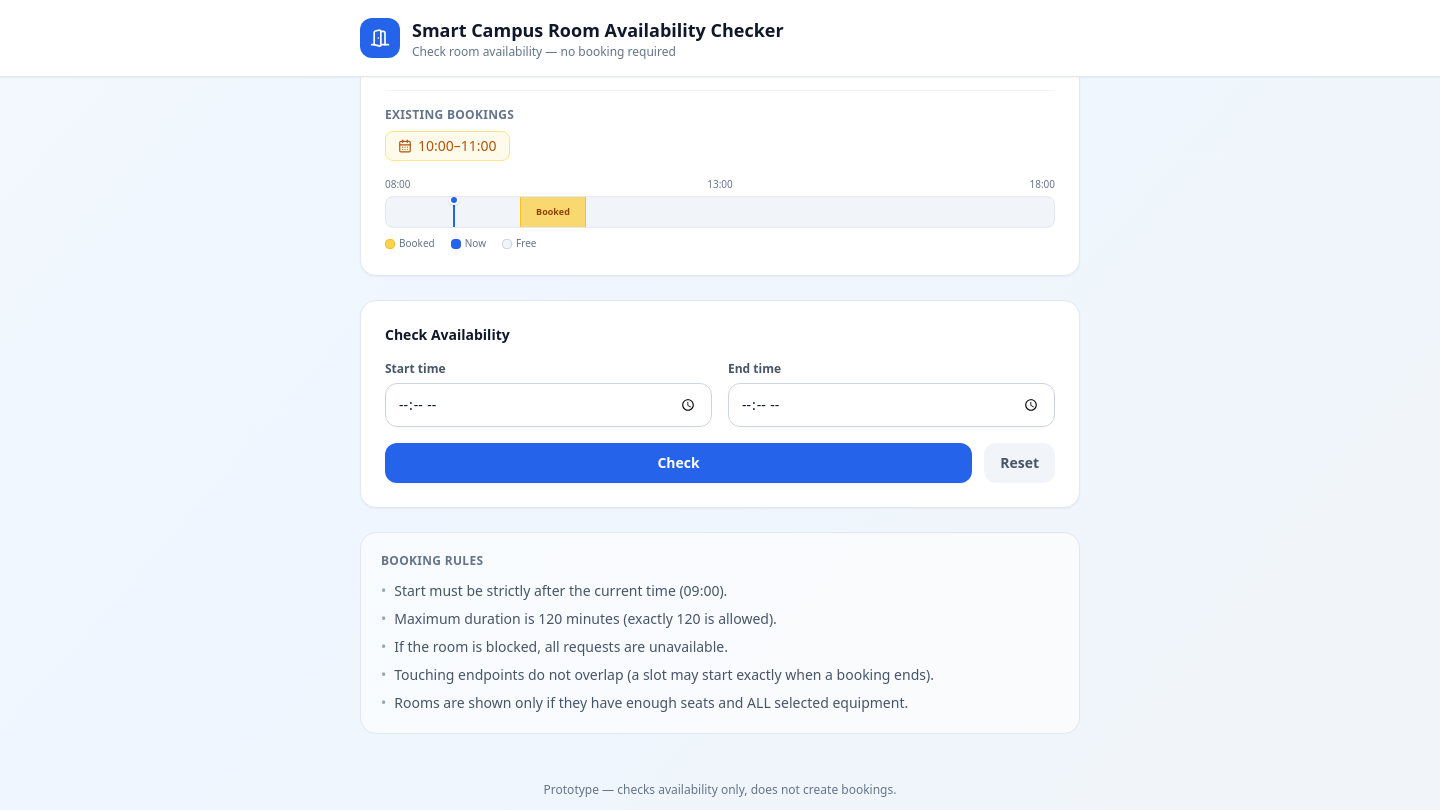
Test: Mitigation 1 — current time is 09:00 (literal, no NOW_MIN import) › Room 204, 09:01–09:30 is Available (one minute after now)
(page scrolled)
In the time field labelled "Start time": (548, 405) [385,383,712,427], type "09:01"
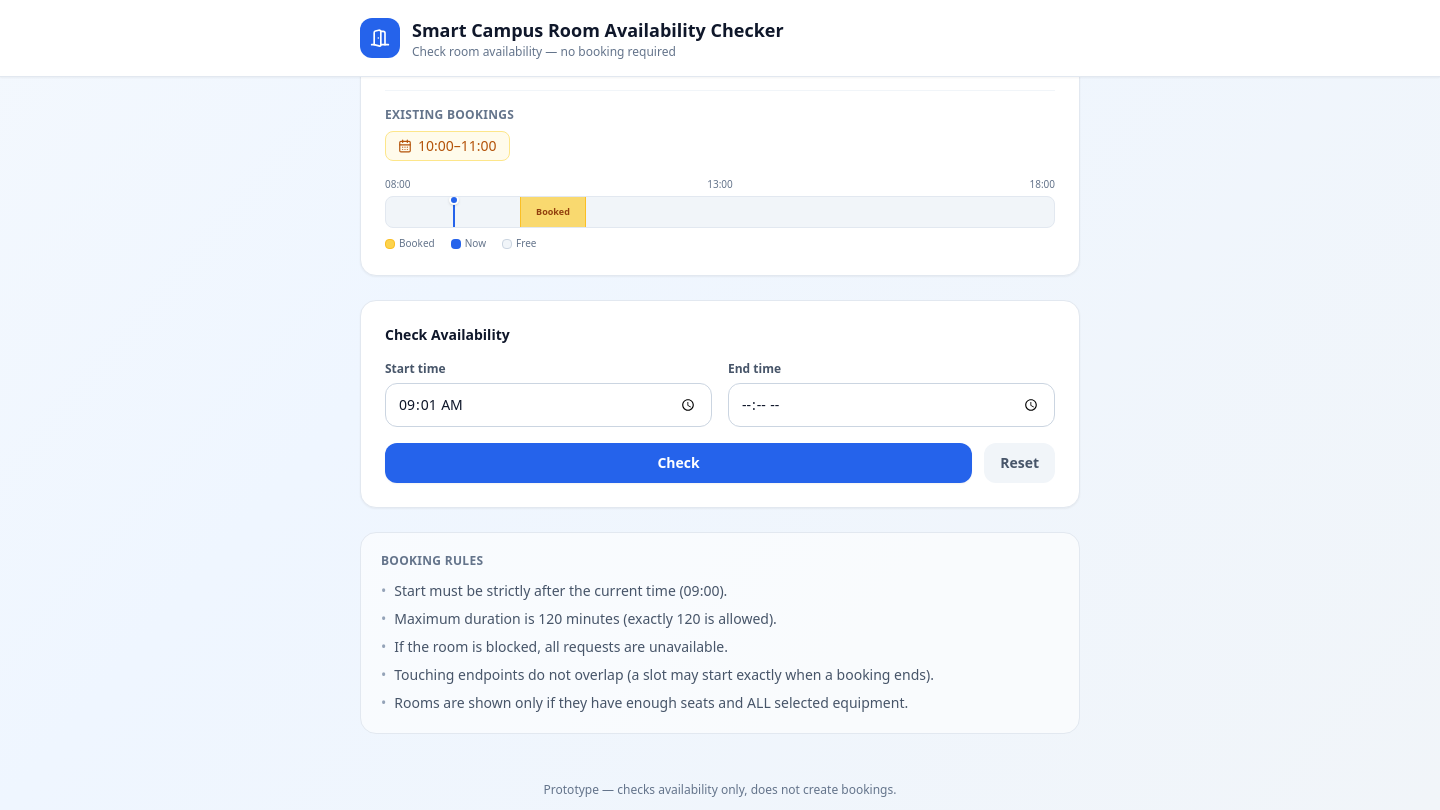
In the time field labelled "End time": (892, 405) [728,383,1055,427], type "09:30"
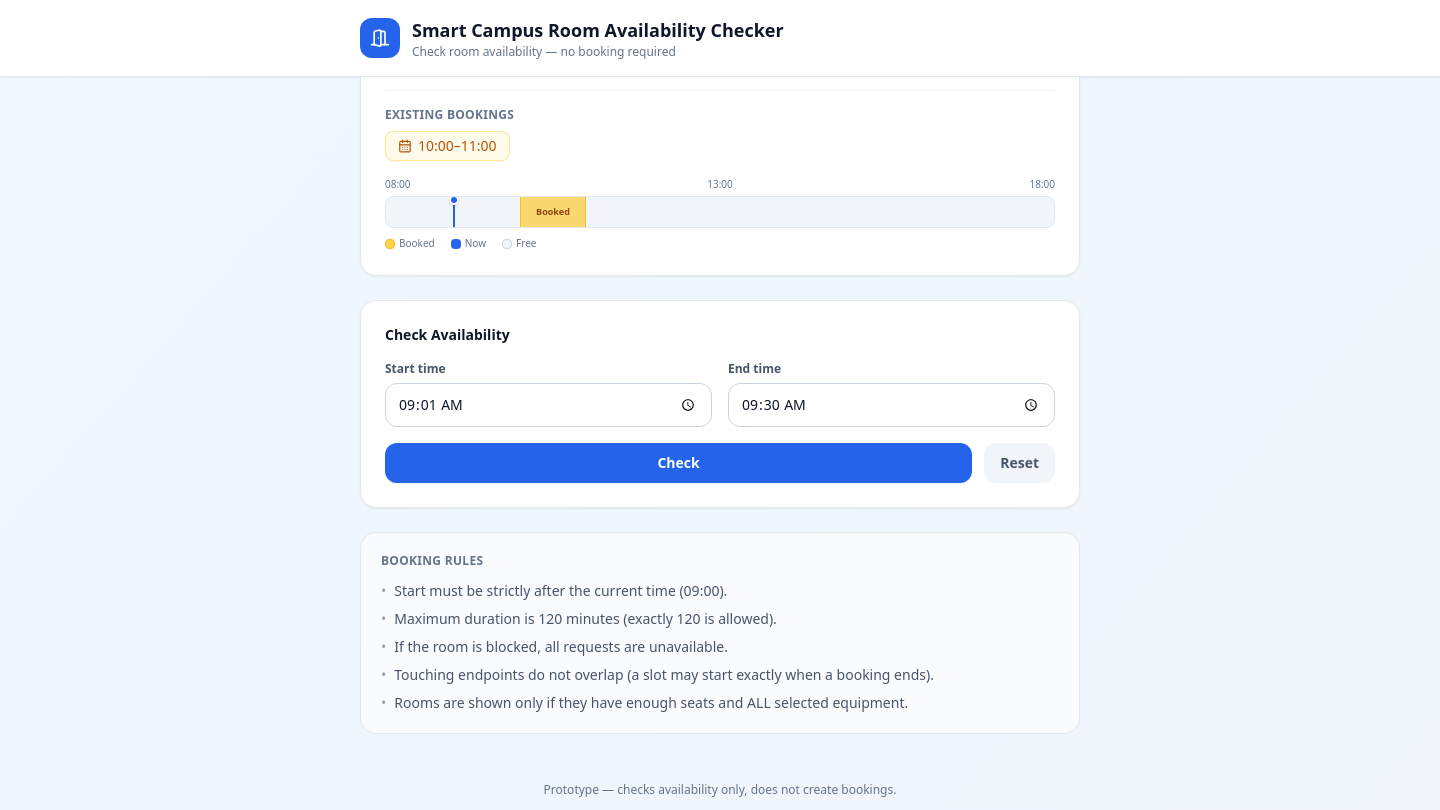
Click the button "Check": (679, 463) [385,443,972,483]
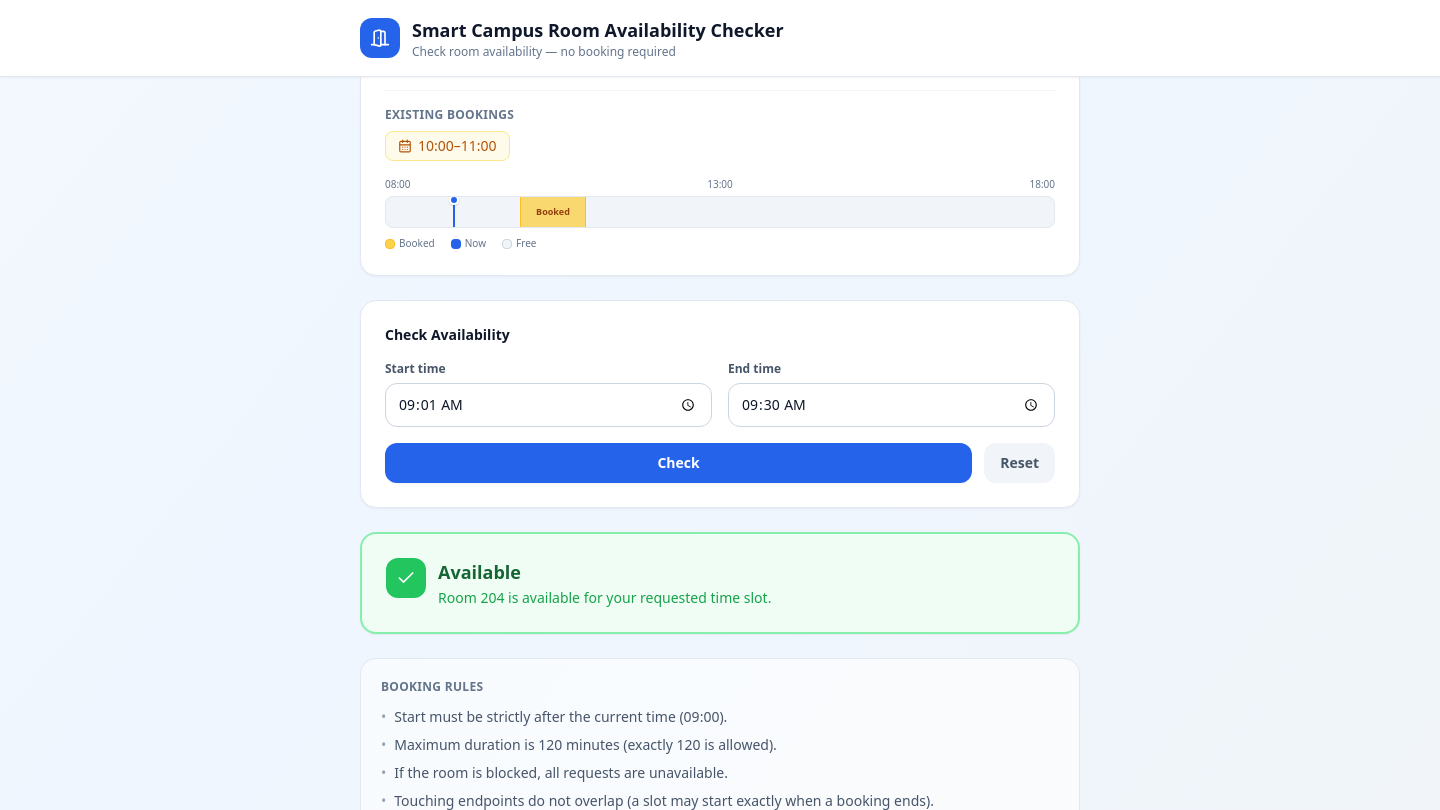
Now the heading "Available" is shown, box [438,560,521,584]
